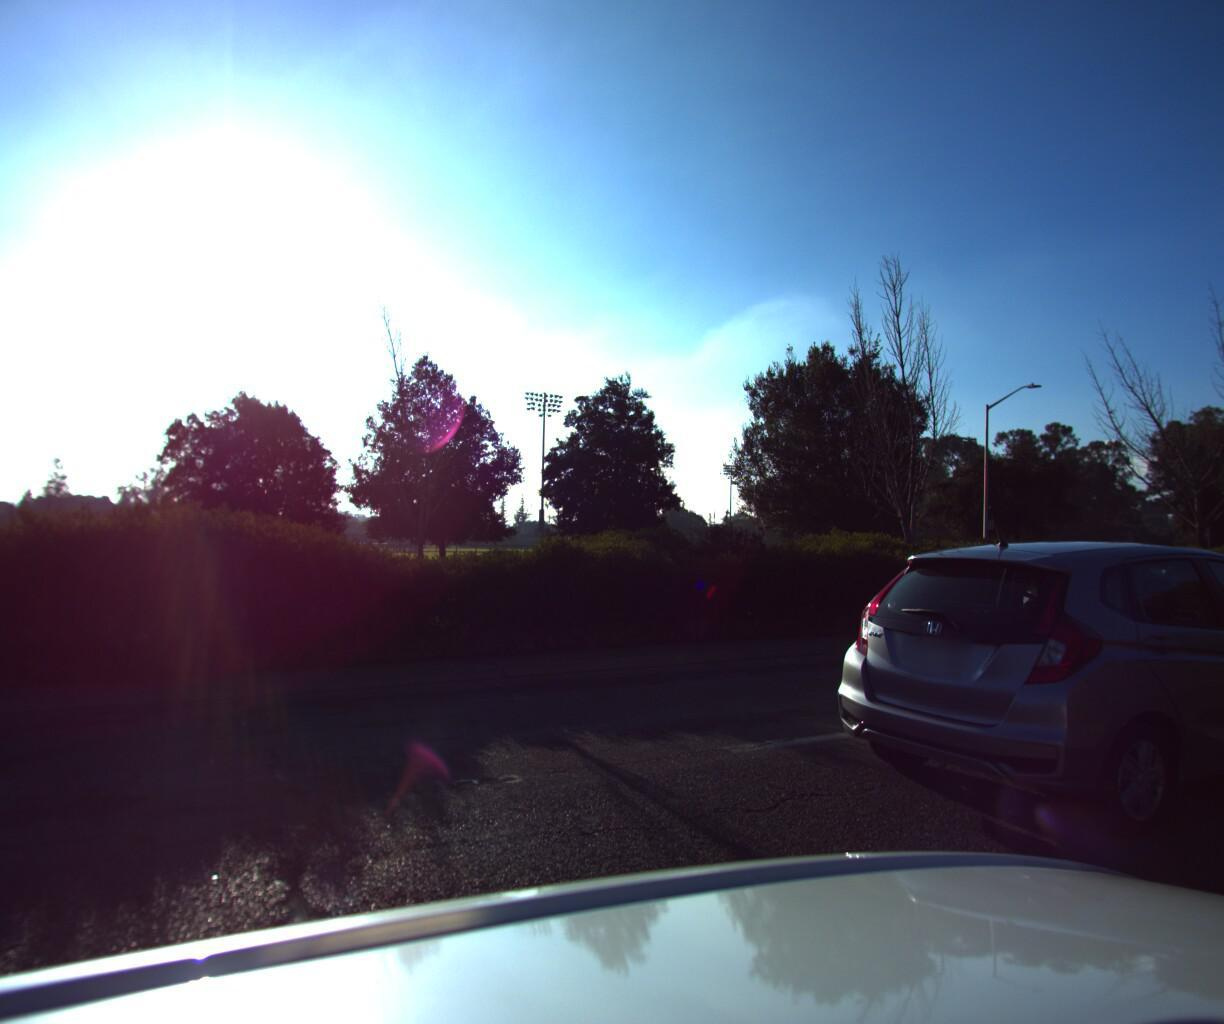car: (788, 549, 1224, 891), (1217, 545, 1224, 643)
